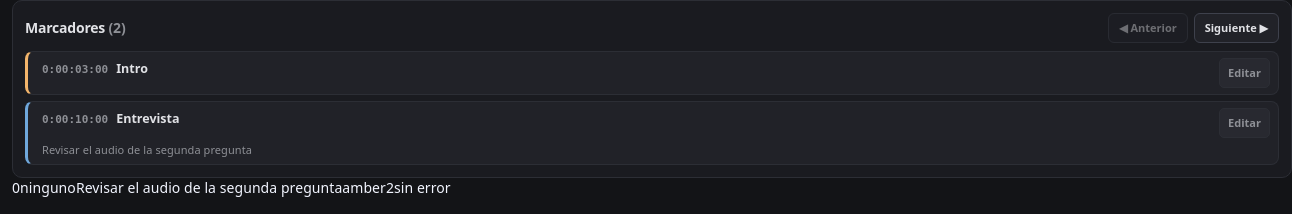
Panel de marcadores › los botones de cabecera saltan al marcador anterior y siguiente
Note: El playhead arranca en 0: "siguiente" lleva a Intro (frame 90).
Click the button with aria-label "ir al marcador siguiente" at (1236,28), box [1194, 13, 1279, 43]
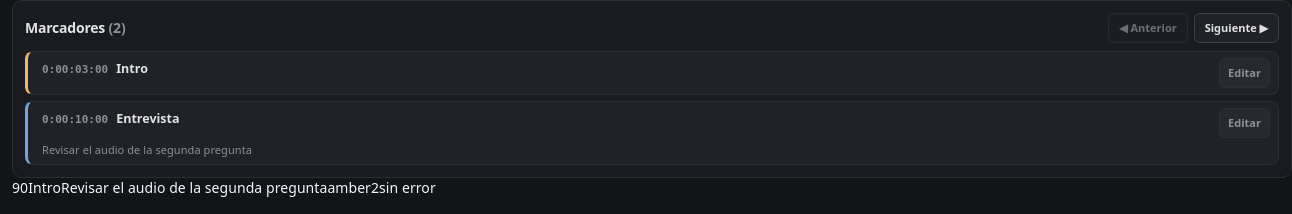
Expected: the text with test id "marcador-en-playhead" reads "Intro", [28, 178, 61, 197]
Note: Sobre Intro, "siguiente" lleva a Entrevista (frame 300).
Click the button with aria-label "ir al marcador siguiente" at (1236,28), box [1194, 13, 1279, 43]
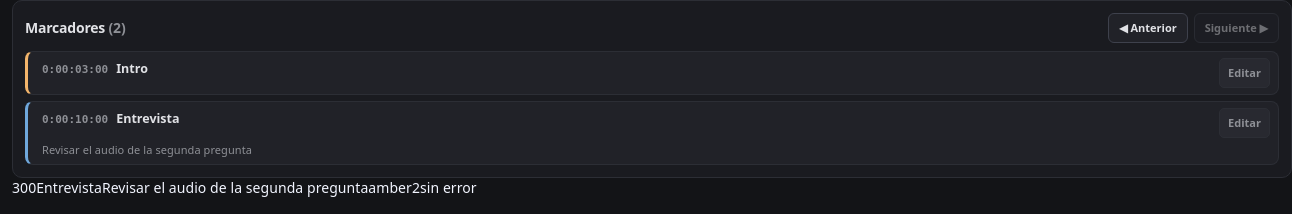
Expected: the text with test id "marcador-en-playhead" reads "Entrevista", [36, 178, 102, 197]
Note: Y "anterior" vuelve a Intro.
Click the button with aria-label "ir al marcador anterior" at (1148,28), box [1108, 13, 1188, 43]
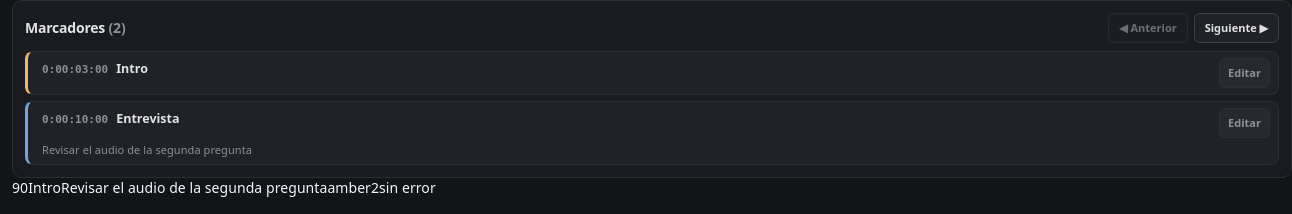
Expected: the text with test id "marcador-en-playhead" reads "Intro", [28, 178, 61, 197]
Expected: the button with aria-label "ir al marcador anterior" is disabled, [1108, 13, 1188, 43]
